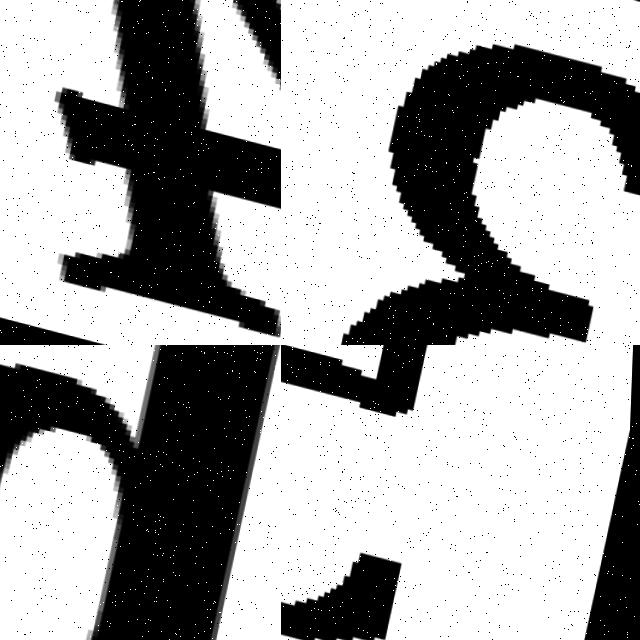3: (294, 0, 640, 345)
5: (281, 345, 500, 640)
B: (0, 345, 278, 640)
